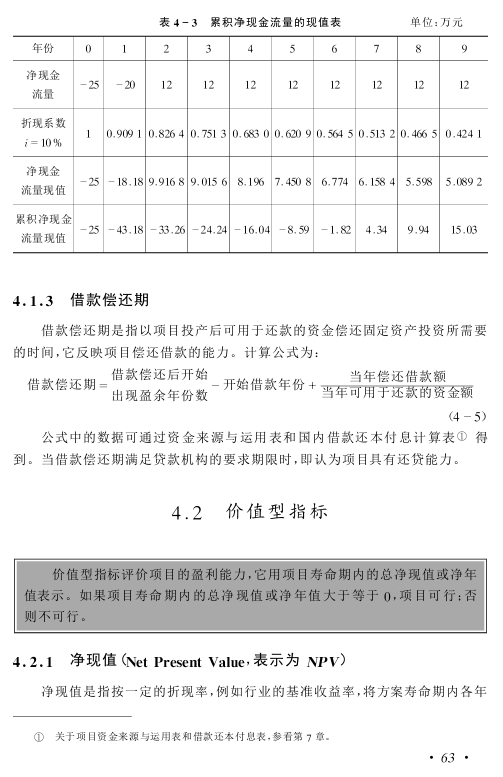table: (12, 34, 488, 254)
